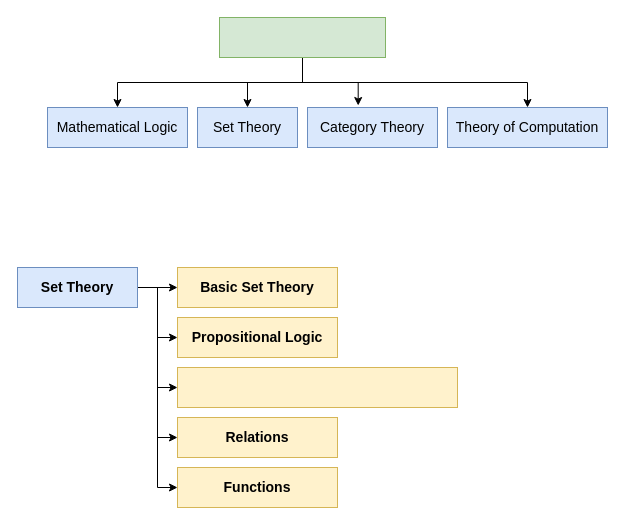
Image size: 625x525. Some labels were removed from this diagram. The box of each missing label's shape, as (x1, y1, x2, y2) in pixels:
Foundation Mathematic: (218, 16, 386, 58)
Proof, Conjectures & Counterexample: (176, 366, 458, 408)
